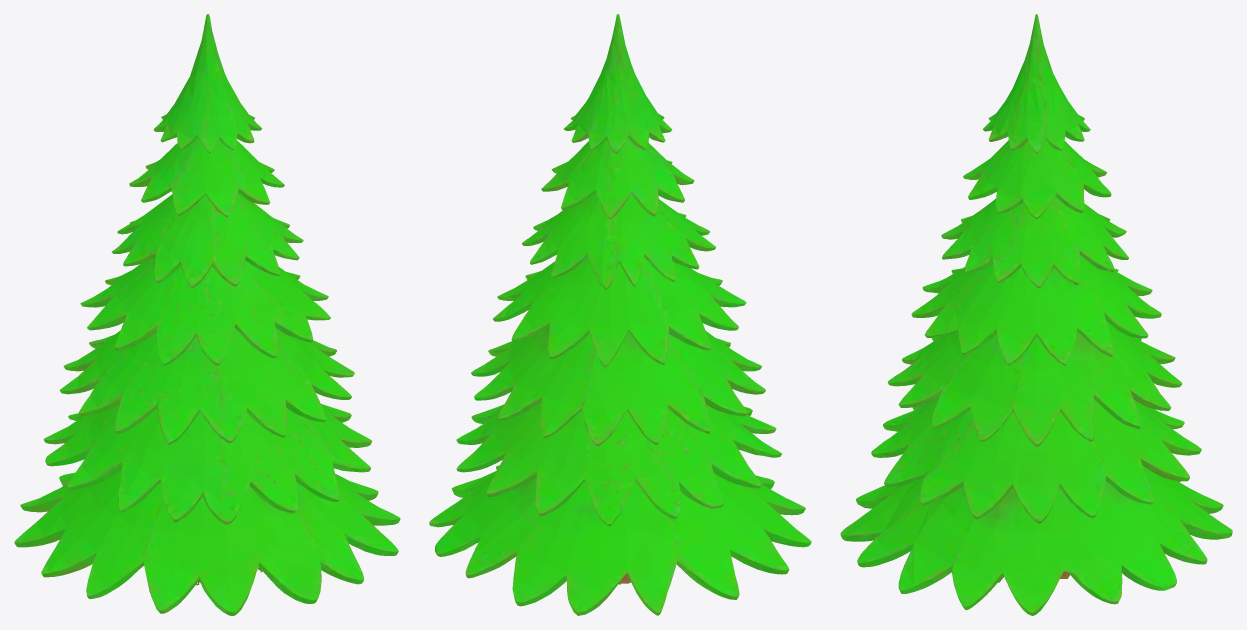
File: pine.glb
The picture shows the model from 3 angles, left to right: view 1: azimuth 30°, elevation 25°; view 2: azimuth 150°, elevation 25°; view 3: azimuth 270°, elevation 25°; orthographic projection.
Visible parts, largest first — view 1: geometry_0; view 2: geometry_0; view 3: geometry_0.
Boxes of the visible parts, <box> form: geometry_0: <box>14,14,400,615</box>; geometry_0: <box>429,14,811,615</box>; geometry_0: <box>840,14,1232,615</box>.
Bounding box in the file's own units: 0.6348 × 0.9968 × 0.6402.
1 material, 1 textured.
